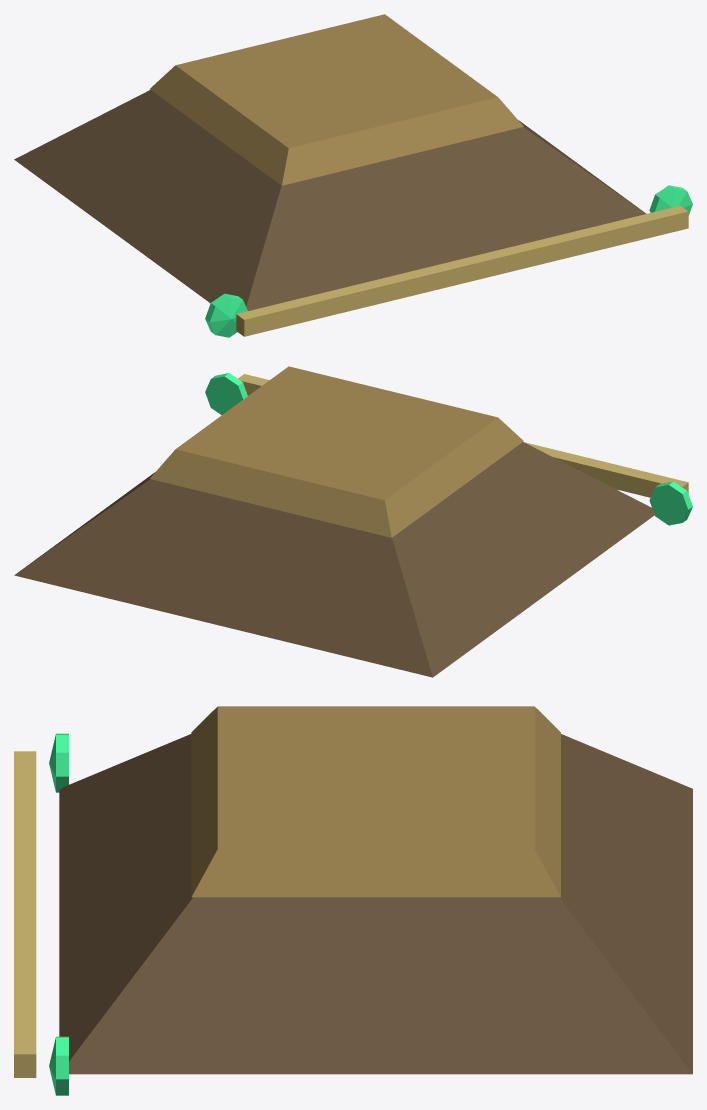
File: broad_square_eaves.obj
The picture shows the model from 3 angles, top to bottom: view 1: azimuth 30°, elevation 25°; view 2: azimuth 150°, elevation 25°; view 3: azimuth 270°, elevation 25°; orthographic projection. The views are drawn at different scales.
Parts seen in each view (by area): view 1: broad_eaves, broad_eave_cap, broad_eave_edge, broad_eave_edge_edge, eave_gem_-0.48, eave_gem_0.48; view 2: broad_eaves, broad_eave_cap, broad_eave_edge_edge, eave_gem_-0.48, broad_eave_edge, eave_gem_0.48; view 3: broad_eaves, broad_eave_cap, broad_eave_edge_edge, eave_gem_0.48, eave_gem_-0.48.
Part boxes in pixels (x1,y1,x2,y2): broad_eaves: (14,90,646,310); broad_eave_cap: (150,14,523,185); broad_eave_edge: (244,211,688,336); broad_eave_edge_edge: (236,205,688,336); eave_gem_-0.48: (205,293,247,337); eave_gem_0.48: (649,185,692,215); broad_eaves: (14,442,655,677); broad_eave_cap: (150,366,523,537); broad_eave_edge_edge: (238,374,688,493); eave_gem_-0.48: (649,481,692,525); broad_eave_edge: (241,381,660,497); eave_gem_0.48: (205,373,247,414); broad_eaves: (59,734,692,1074); broad_eave_cap: (191,706,560,897); broad_eave_edge_edge: (14,751,36,1077); eave_gem_0.48: (49,1036,68,1095); eave_gem_-0.48: (49,733,68,792).
Size of the model in its own units: 1.04 by 0.2445 by 0.9093.
